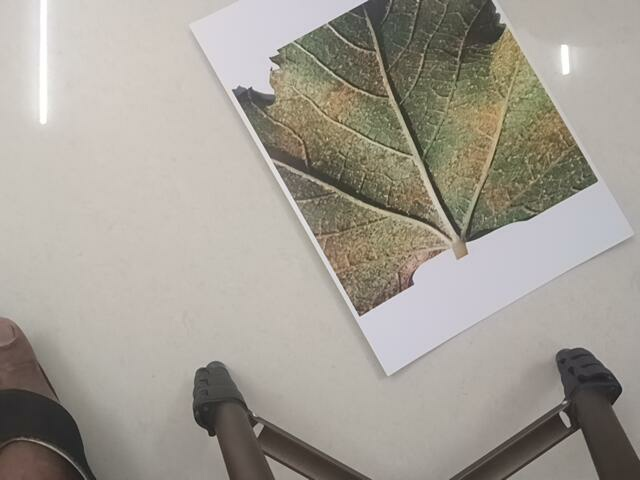Grape_Rust_Fungus: (231, 2, 601, 310)
